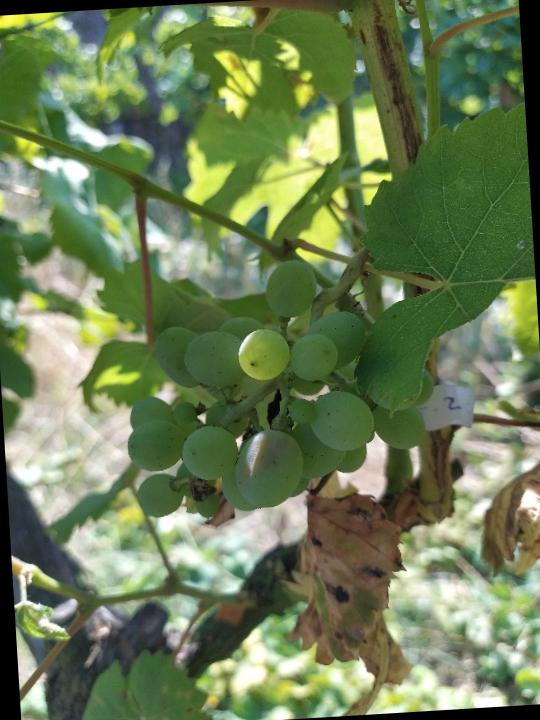grape: (114, 248, 441, 526)
